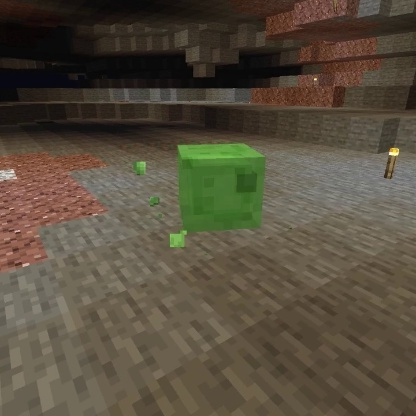slime: (174, 139, 269, 236)
